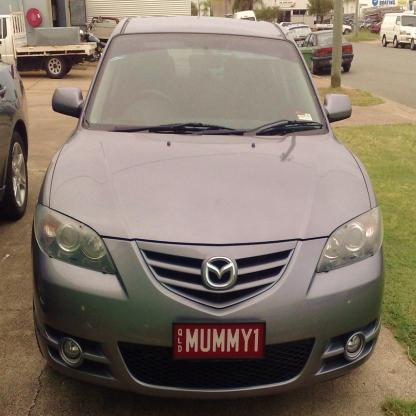Car: (34, 16, 387, 400), (1, 61, 28, 219), (299, 31, 355, 75)
